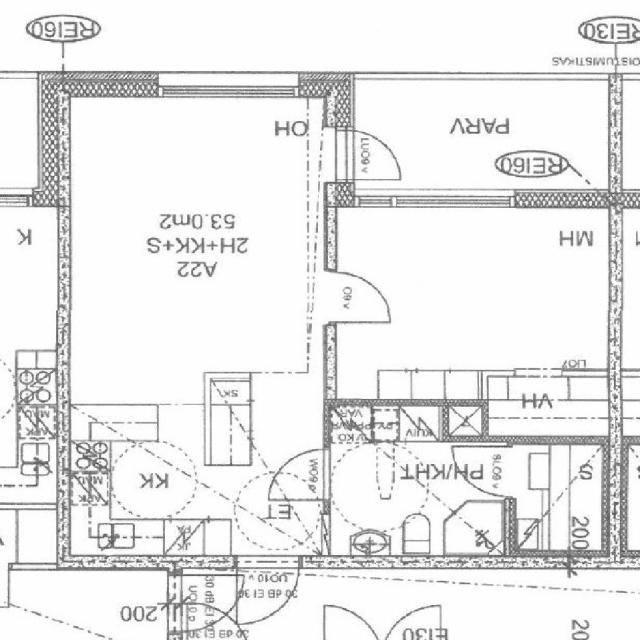door: (237, 555, 299, 624), (323, 272, 392, 322), (266, 449, 330, 500), (450, 446, 511, 497), (336, 131, 400, 179)
